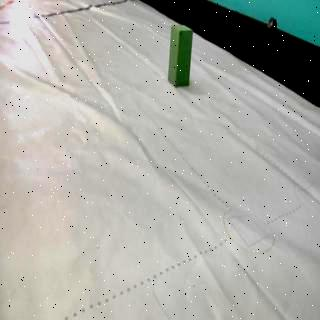greenbox: (167, 24, 194, 88)
